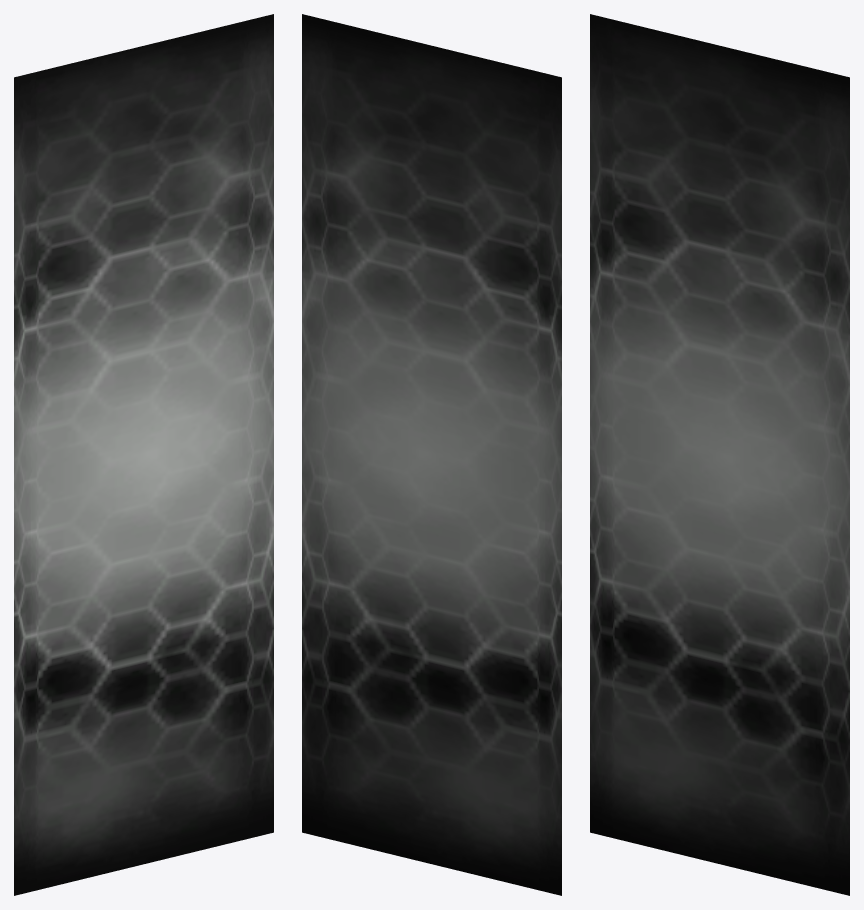
The model's file is mesh_changfangxing_004.FBX.
The picture shows the model from 3 angles, left to right: view 1: azimuth 30°, elevation 25°; view 2: azimuth 150°, elevation 25°; view 3: azimuth 330°, elevation 25°; orthographic projection.
Visible parts, largest first — view 1: mesh_changfangxing_004; view 2: mesh_changfangxing_004; view 3: mesh_changfangxing_004.
Boxes of the visible parts, x1,y1,x2,y2 form: mesh_changfangxing_004: [14, 14, 273, 895]; mesh_changfangxing_004: [302, 14, 561, 895]; mesh_changfangxing_004: [590, 14, 849, 895].
Bounding box in the file's own units: 100 × 301 × 1.32e-05.
